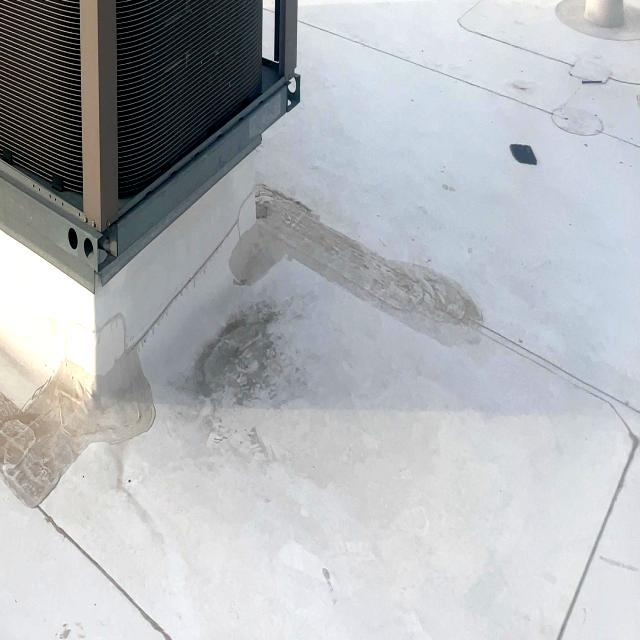RTU: (0, 0, 307, 411)
